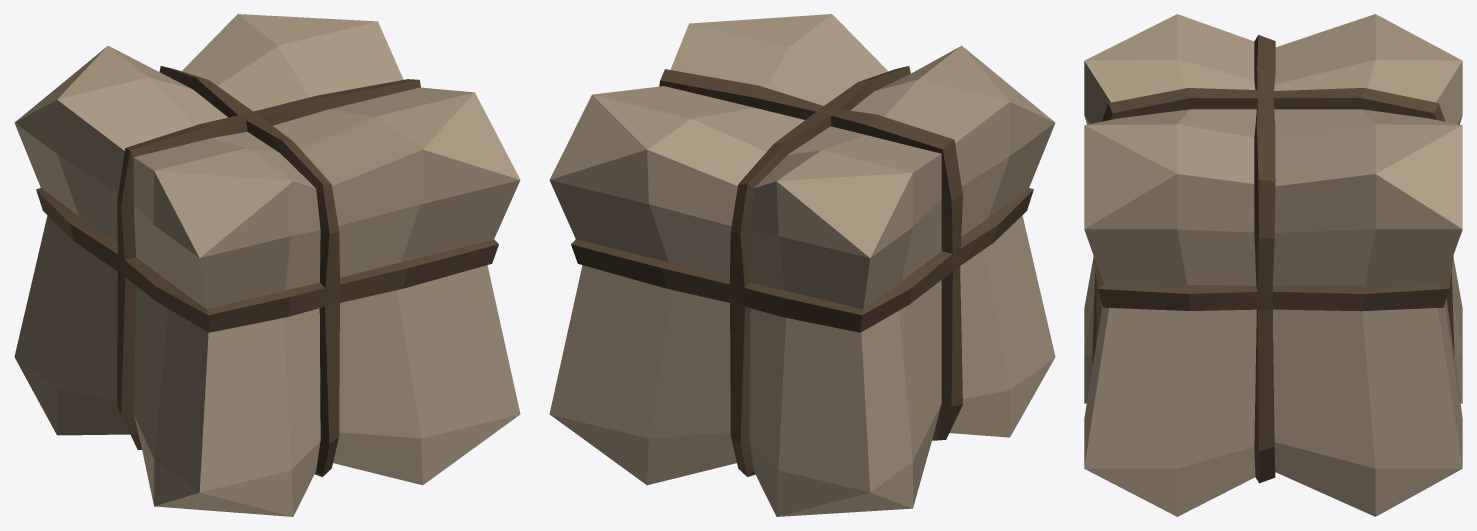
The model's file is SM_Prop_Crate_Covered_01.glb.
3 renders of one model, left to right at view 1: azimuth 30°, elevation 25°; view 2: azimuth 150°, elevation 25°; view 3: azimuth 270°, elevation 25°, orthographic. The views are drawn at different scales.
Visible parts, largest first — view 1: SM_Prop_Crate_Covered_01; view 2: SM_Prop_Crate_Covered_01; view 3: SM_Prop_Crate_Covered_01.
Boxes of the visible parts, left/top/right/bottom form: SM_Prop_Crate_Covered_01: left=14, top=14, right=520, bottom=516; SM_Prop_Crate_Covered_01: left=549, top=14, right=1055, bottom=516; SM_Prop_Crate_Covered_01: left=1084, top=14, right=1462, bottom=516.
Bounding box in the file's own units: 0.00626 × 0.00626 × 0.00626.
1 material, 1 textured.
